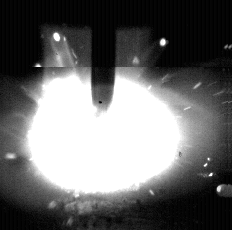arame: (92, 0, 115, 116)
poca: (25, 0, 182, 230)
